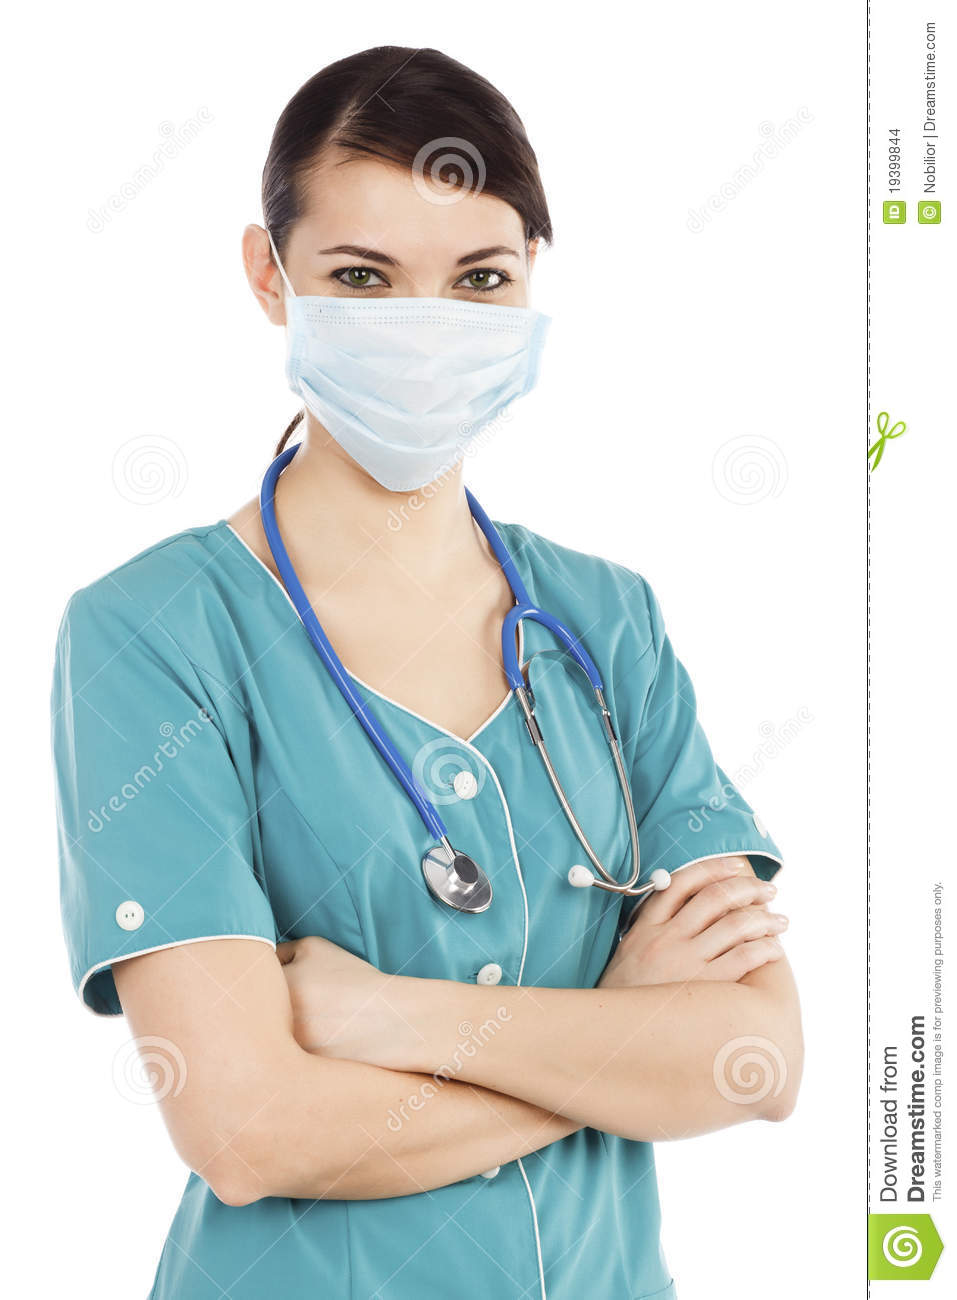mask: (285, 288, 543, 504)
